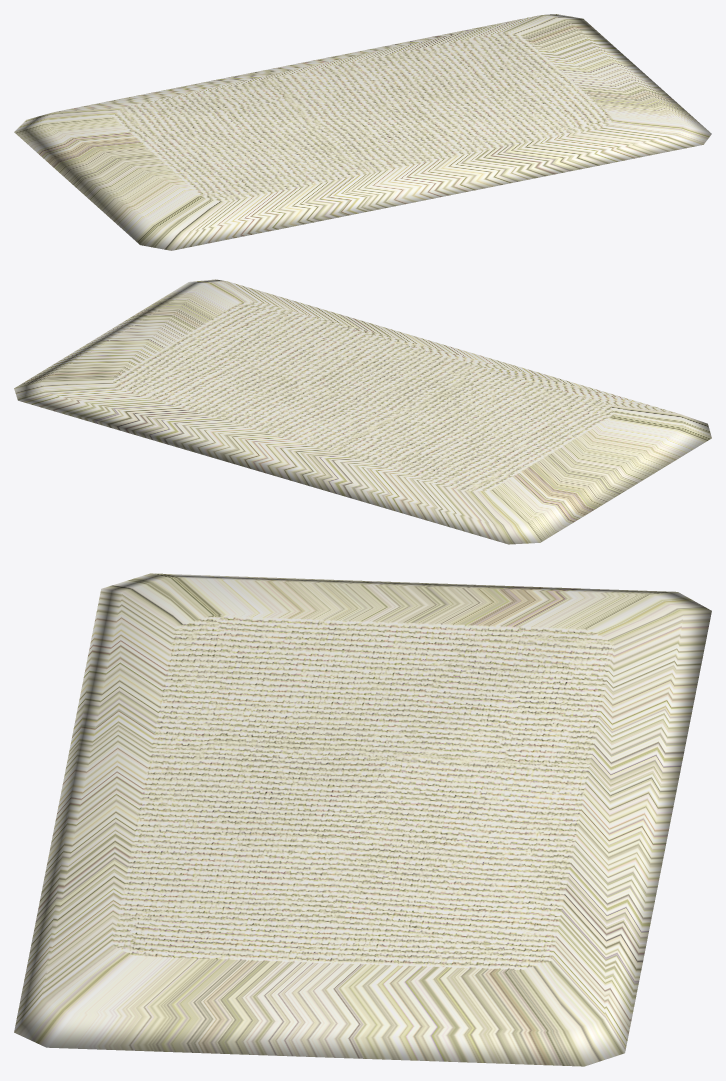
File: alfombra baño.fbx
3 renders of one model, top to bottom at view 1: azimuth 30°, elevation 25°; view 2: azimuth 150°, elevation 25°; view 3: azimuth 270°, elevation 25°, orthographic. The views are drawn at different scales.
Parts seen in each view (by area): view 1: Plane.024; view 2: Plane.024; view 3: Plane.024.
Boxes of the visible parts, x1,y1,x2,y2 form: Plane.024: (14,14,711,250); Plane.024: (14,279,711,544); Plane.024: (14,573,711,1066).
Bounding box in the file's own units: 655 × 16.81 × 392.
